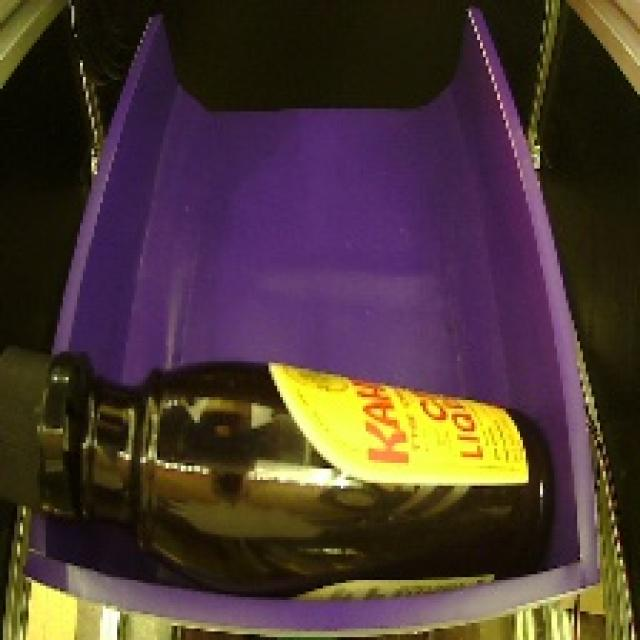plastic: (0, 326, 577, 611)
